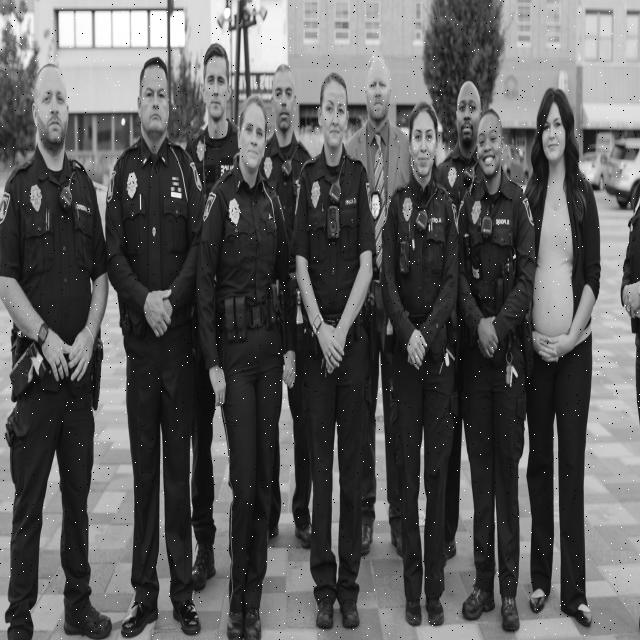police: (0, 46, 114, 640), (103, 51, 210, 640), (292, 70, 382, 626), (204, 93, 294, 640), (381, 103, 458, 618), (457, 102, 534, 591)
